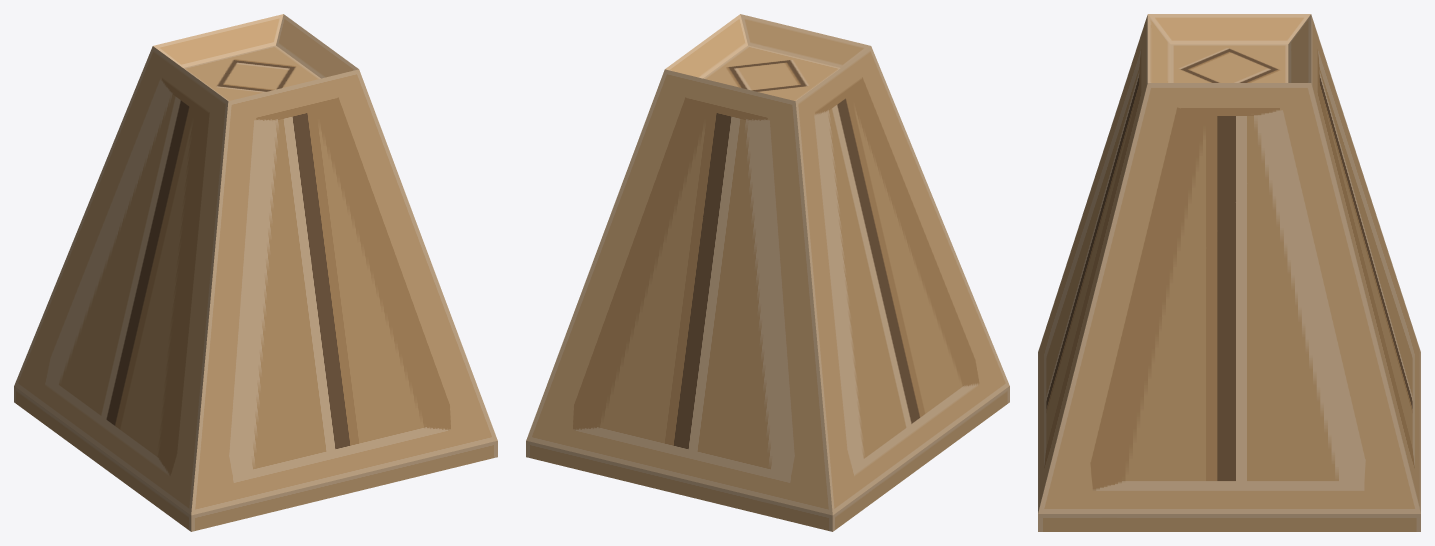
File: CrystalHolder.FBX
The picture shows the model from 3 angles, left to right: view 1: azimuth 30°, elevation 25°; view 2: azimuth 150°, elevation 25°; view 3: azimuth 270°, elevation 25°; orthographic projection. The views are drawn at different scales.
Visible parts, largest first — view 1: CrystalHolder; view 2: CrystalHolder; view 3: CrystalHolder.
Part boxes in pixels (box(x1,y1,x2,y2)): CrystalHolder: box(14, 14, 497, 531); CrystalHolder: box(526, 14, 1009, 531); CrystalHolder: box(1038, 14, 1420, 531).
Size of the model in its own units: 1 by 1.16 by 1.
